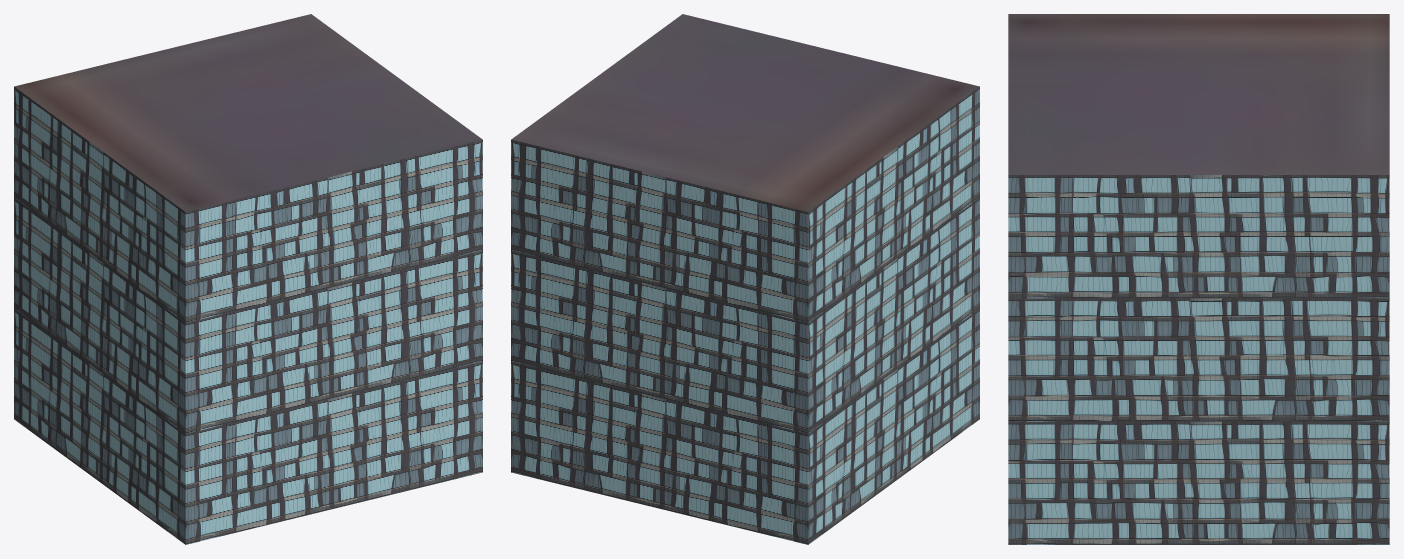
3 renders of one model, left to right at view 1: azimuth 30°, elevation 25°; view 2: azimuth 150°, elevation 25°; view 3: azimuth 270°, elevation 25°, orthographic. The views are drawn at different scales.
Parts seen in each view (by area): view 1: B8; view 2: B8; view 3: B8.
Part boxes in pixels (<box>): B8: <box>14,14,482,544</box>; B8: <box>511,14,979,544</box>; B8: <box>1008,14,1389,544</box>.
Size of the model in its own units: 1428 by 1529 by 1428.
1 material, 1 textured.
